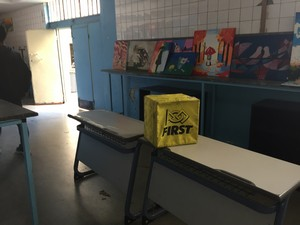cube: (143, 95, 200, 147)
